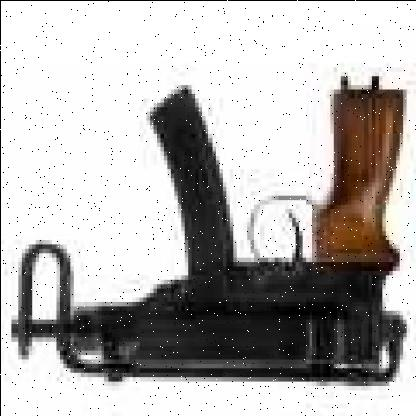rifle: (3, 80, 416, 394)
